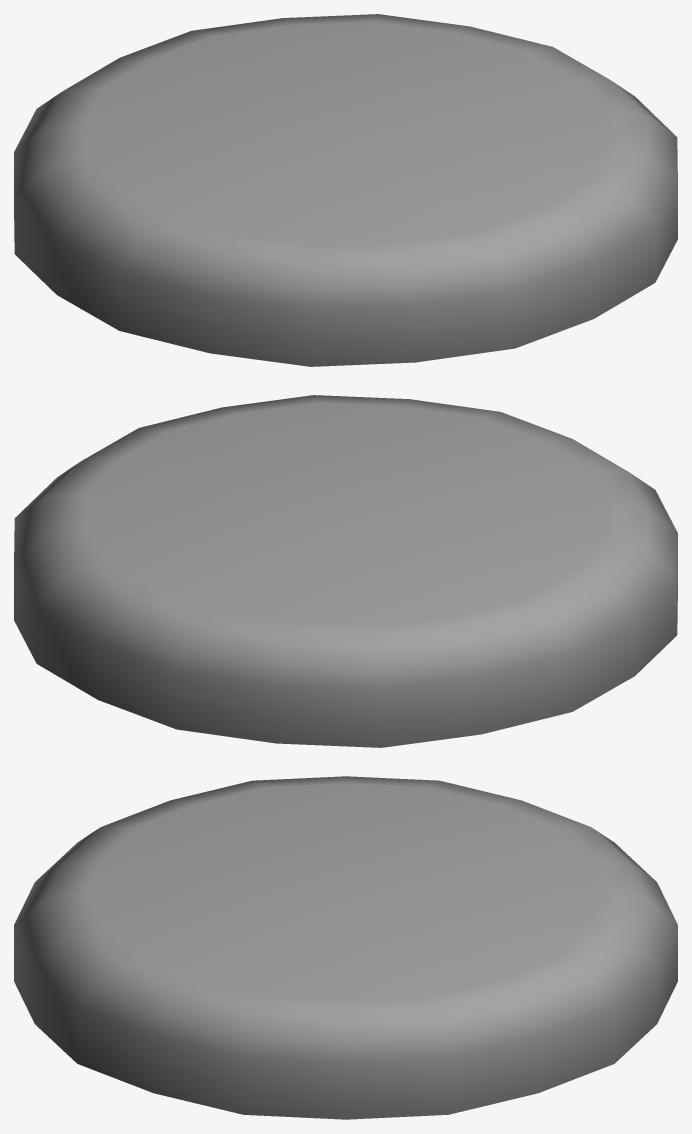
The model's file is shelf.fbx.
3 renders of one model, top to bottom at view 1: azimuth 30°, elevation 25°; view 2: azimuth 150°, elevation 25°; view 3: azimuth 270°, elevation 25°, orthographic. The views are drawn at different scales.
Visible parts, largest first — view 1: shelf; view 2: shelf; view 3: shelf.
Boxes of the visible parts, x1,y1,x2,y2 form: shelf: (14,14,677,366); shelf: (14,395,677,747); shelf: (14,776,677,1119).
Size of the model in its own units: 1.17 by 0.1749 by 1.19.
